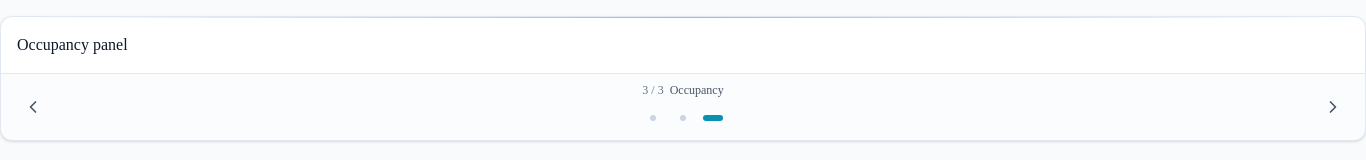
Test: Carousell › wraps around when loop is enabled
Click the button named "Next slide". click: (1333, 106)
box: [1313,86,1353,126]
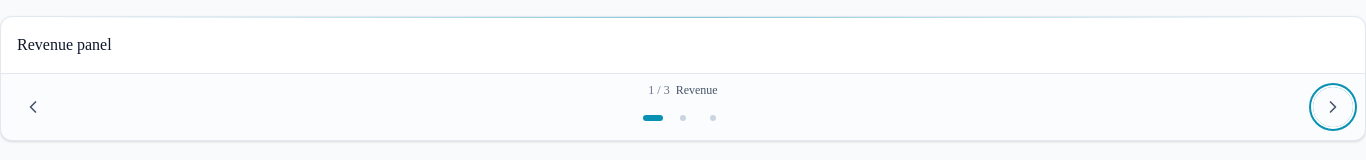
Expected: the element named "1 of 3: Revenue" is shown, [17,36,112,52]
Click the button named "Previous slide". click: (33, 106)
box: [13,86,53,126]
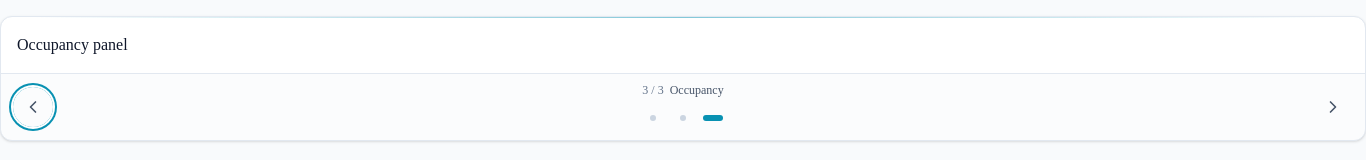
Expected: the element named "3 of 3: Occupancy" is shown, [17,36,128,52]
